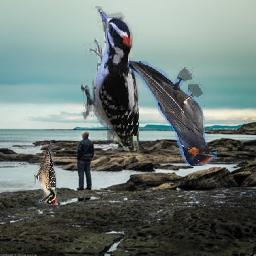Swallow: (127, 62, 217, 167)
Woodpecker: (81, 7, 139, 152), (35, 143, 58, 206)
